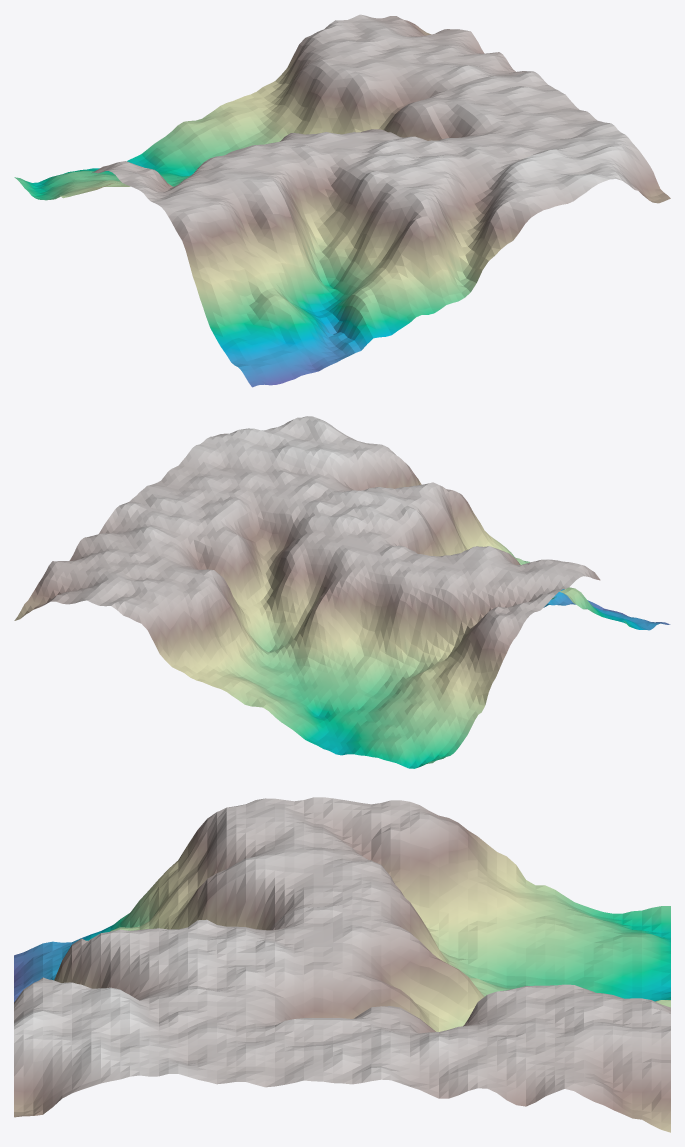
Rendered from 001720_terrain_only.glb.
3 views of the same model, one above another, from view 1: azimuth 30°, elevation 25°; view 2: azimuth 150°, elevation 25°; view 3: azimuth 270°, elevation 25° (orthographic). The views are drawn at different scales.
Visible parts, largest first — view 1: terrain; view 2: terrain; view 3: terrain.
Part boxes in pixels (x1,y1,x2,y2): terrain: [14, 14, 670, 387]; terrain: [14, 416, 670, 768]; terrain: [14, 797, 670, 1132].
Bounding box in the file's own units: 0.0186 × 0.00541 × 0.0183.
